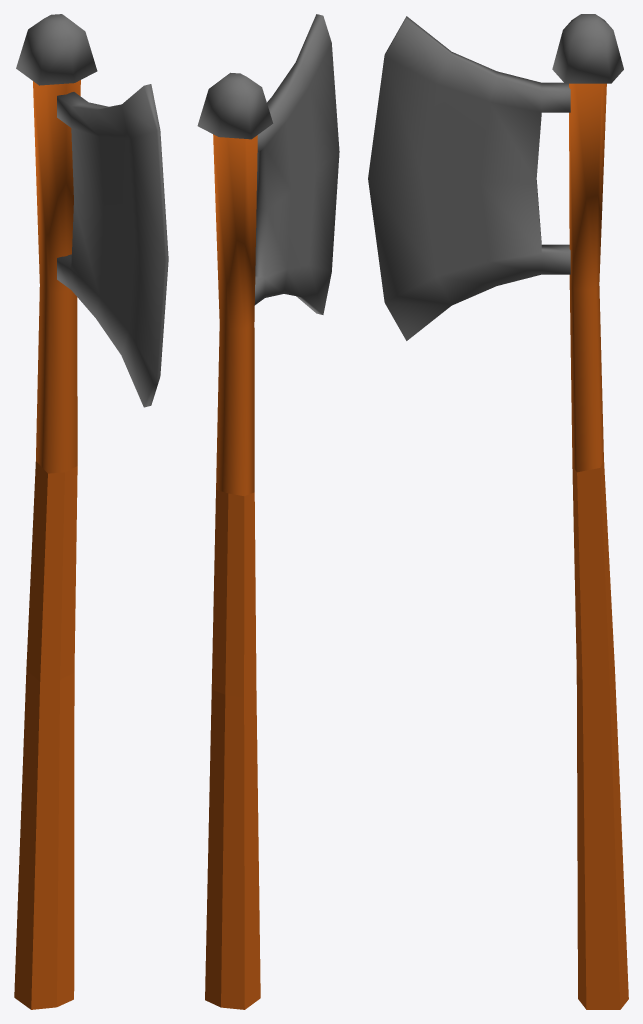
The model's file is cleaver.obj.
3 renders of one model, left to right at view 1: azimuth 30°, elevation 25°; view 2: azimuth 150°, elevation 25°; view 3: azimuth 270°, elevation 25°, orthographic. The views are drawn at different scales.
Parts seen in each view (by area): view 1: Cleaver_Cube.006; view 2: Cleaver_Cube.006; view 3: Cleaver_Cube.006.
Boxes of the visible parts, bbox=[...] form: Cleaver_Cube.006: bbox=[14, 14, 168, 1009]; Cleaver_Cube.006: bbox=[197, 14, 339, 1009]; Cleaver_Cube.006: bbox=[368, 14, 628, 1009].
Size of the model in its own units: 0.0878 by 1.42 by 0.3404.
